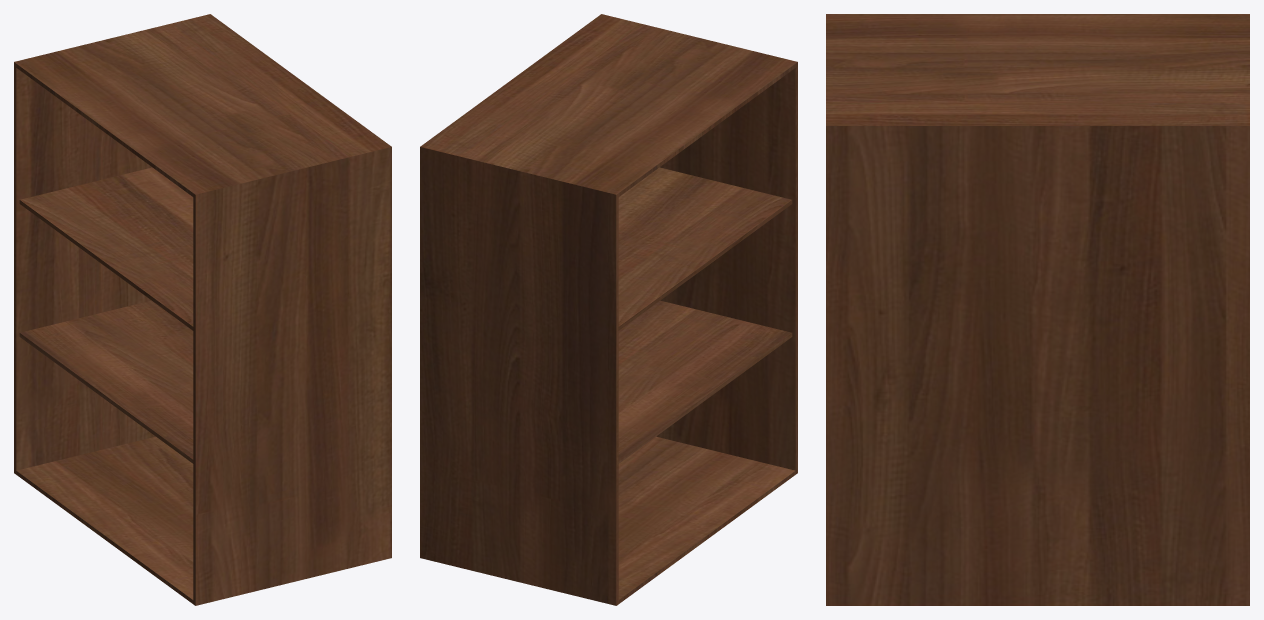
Rendered from Suur_riiul.fbx.
The picture shows the model from 3 angles, left to right: view 1: azimuth 30°, elevation 25°; view 2: azimuth 150°, elevation 25°; view 3: azimuth 270°, elevation 25°; orthographic projection. The views are drawn at different scales.
Parts seen in each view (by area): view 1: Riiul; view 2: Riiul; view 3: Riiul.
Boxes of the visible parts, <box> form: Riiul: <box>14,14,391,605</box>; Riiul: <box>420,14,797,605</box>; Riiul: <box>826,14,1249,605</box>.
Size of the model in its own units: 798 by 1596 by 1277.
